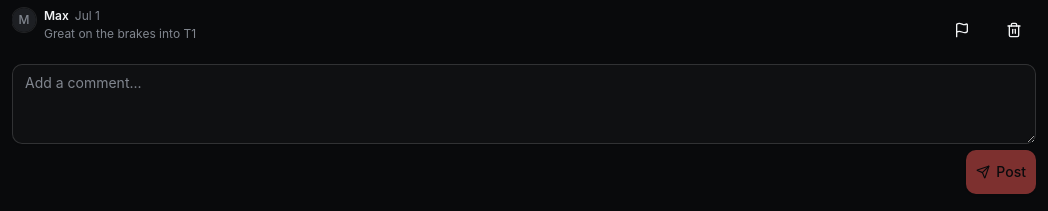
Test: SetupCardComments › lists fetched comments and lets the owner delete one
The image size is (1048, 211).
Expected: the text "Great on the brakes into T1" is shown, [44,26,196,41]
Click the button named "Delete comment": (1014,30) [992,8,1036,52]
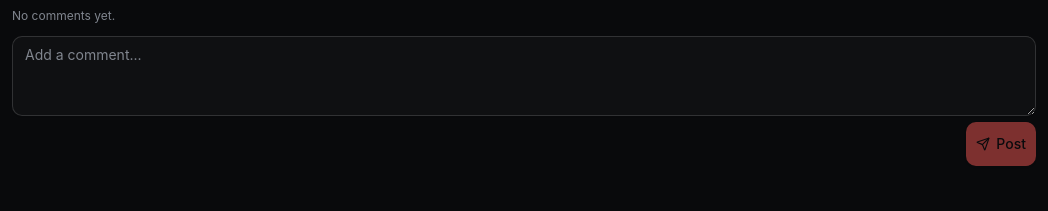
Now the text "Great on the brakes into T1" is gone
